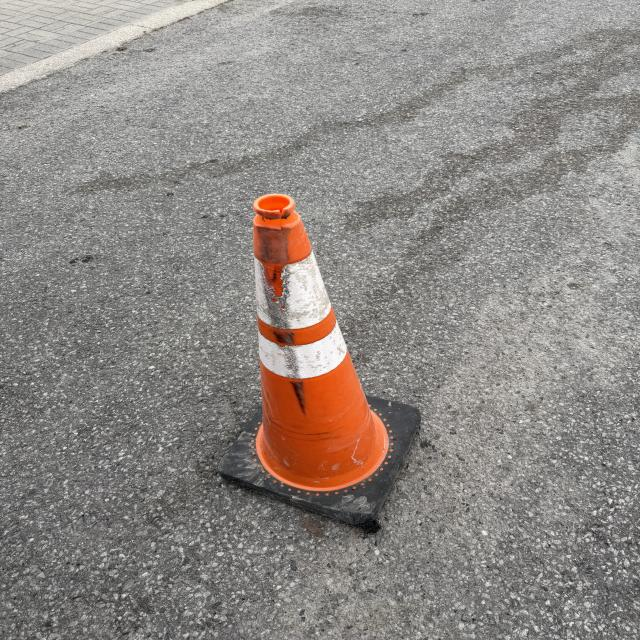Traffic Cone: (213, 193, 426, 532)
